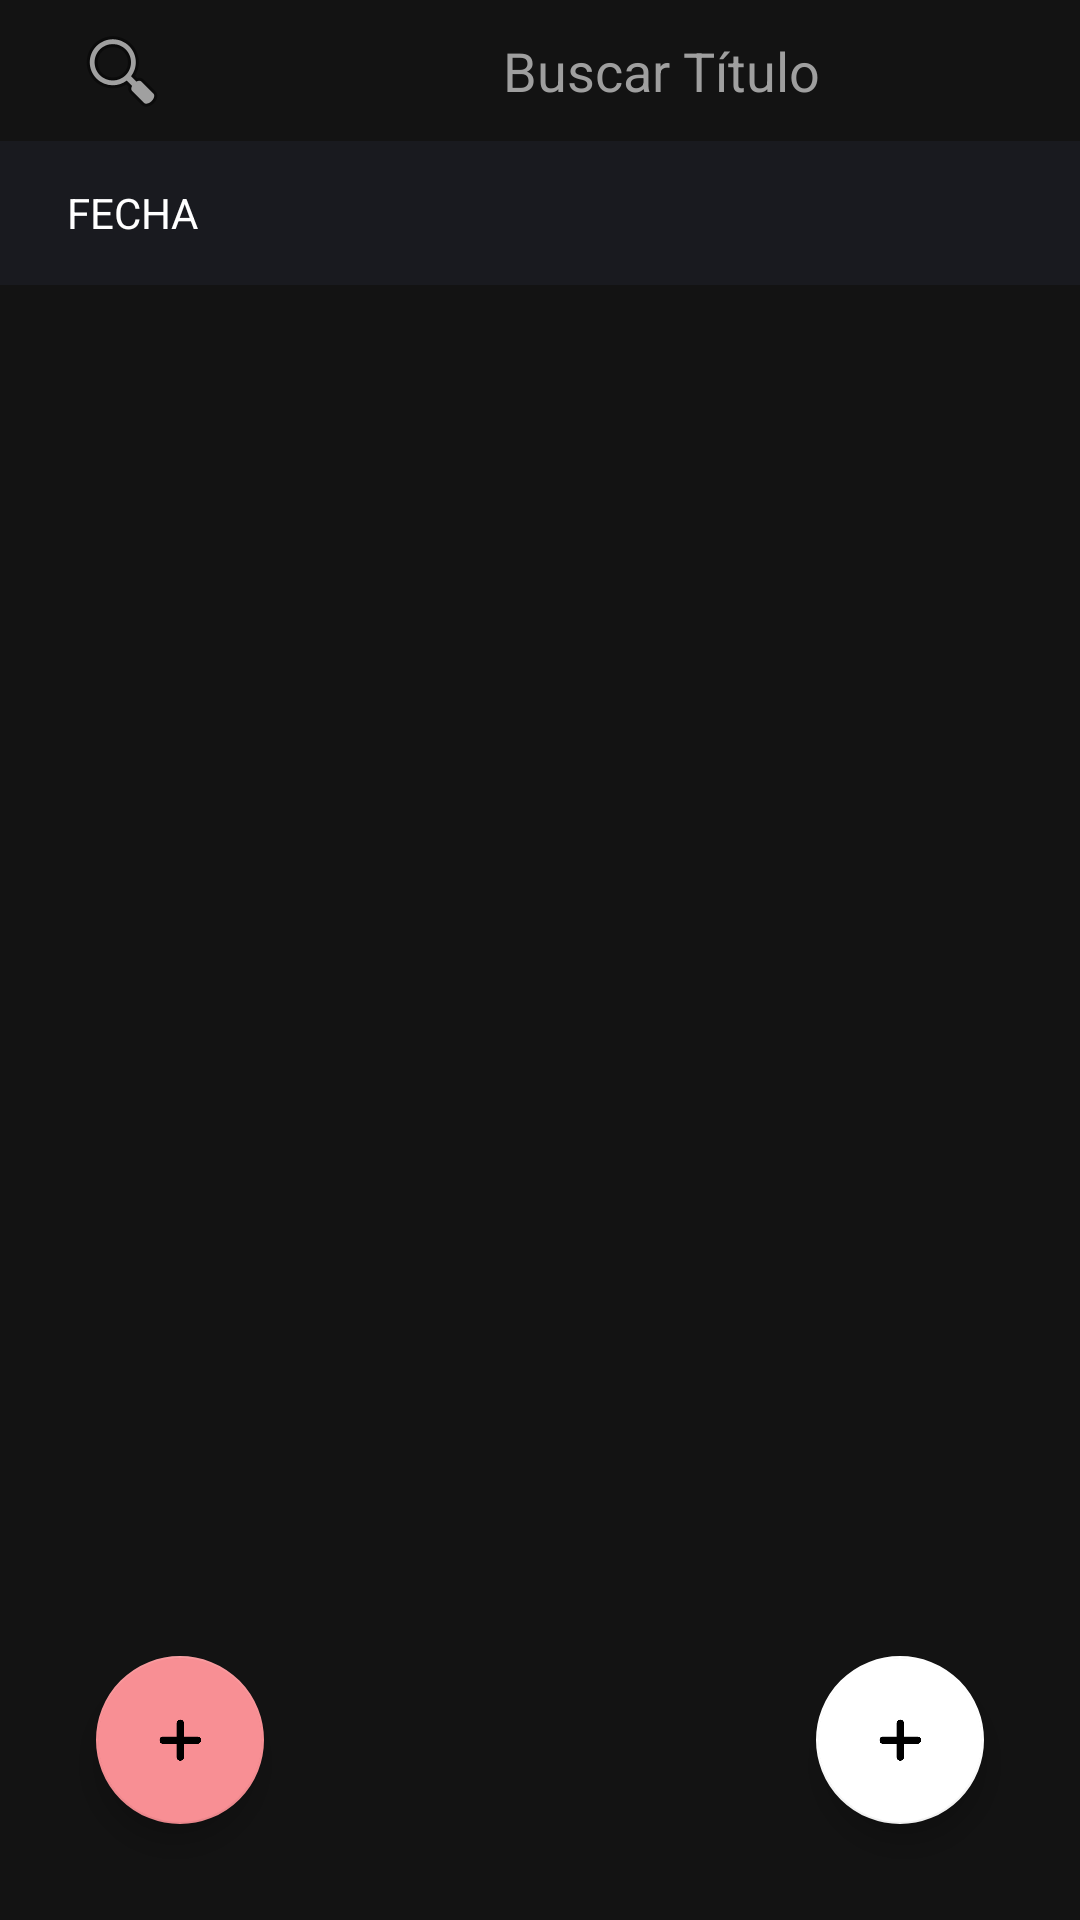

Named icons in this screenshot (1080×1920) and their bounding boxes, (x1, y1, x2, y2):
cruz: (96, 1656, 264, 1824), (816, 1656, 984, 1824)
search: (90, 39, 154, 104)
